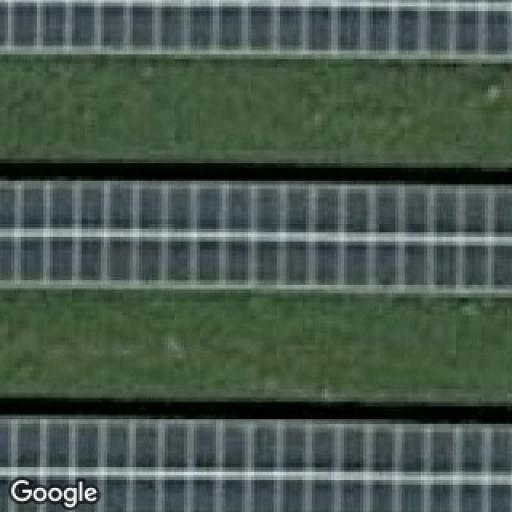solar-panel: (3, 179, 512, 298), (0, 419, 512, 512), (0, 0, 512, 64)
